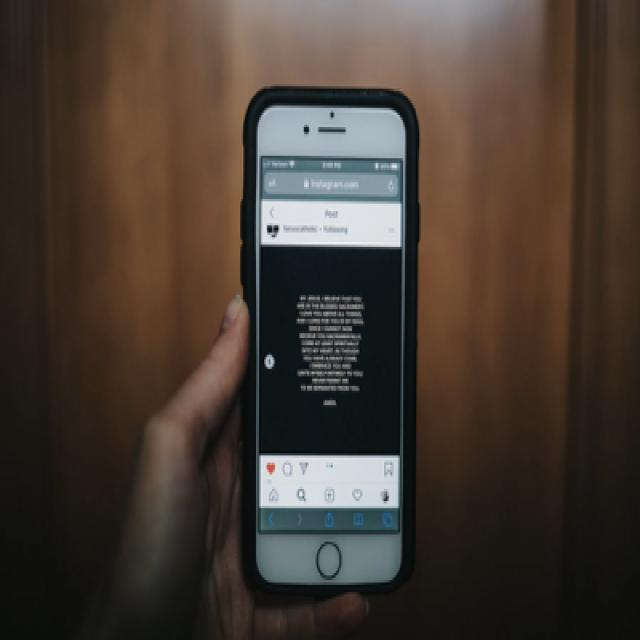cellphone: (238, 84, 420, 594)
